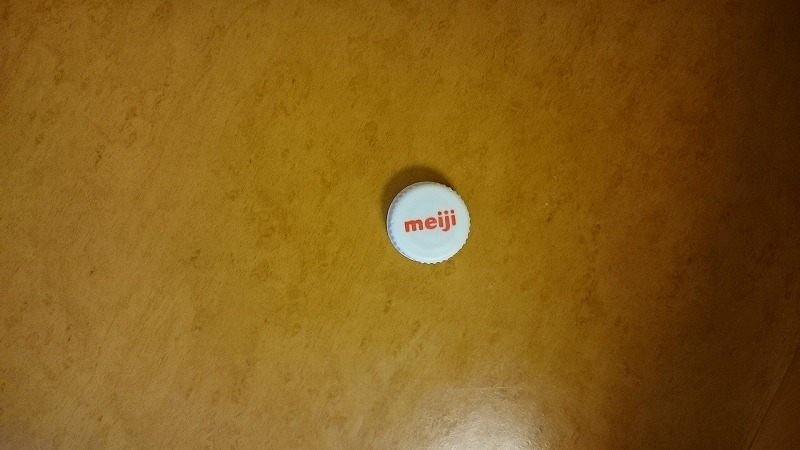B: (377, 173, 481, 273)
